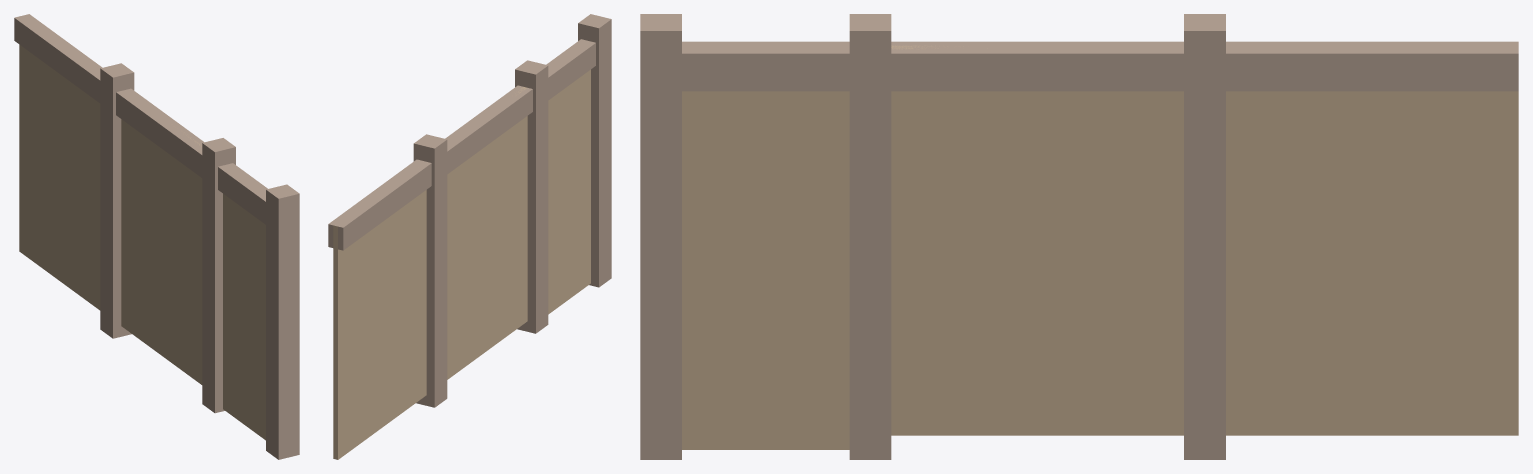
Rendered from Fence.fbx.
The picture shows the model from 3 angles, left to right: view 1: azimuth 30°, elevation 25°; view 2: azimuth 150°, elevation 25°; view 3: azimuth 270°, elevation 25°; orthographic projection. The views are drawn at different scales.
Parts seen in each view (by area): view 1: FenceSheet, FenceSheet.001, FencePole.004, FencePole.001, FencePole, FencePole.003, FencePole.002; view 2: FenceSheet, FenceSheet.001, FencePole.001, FencePole, FencePole.003, FencePole.004, FencePole.002; view 3: FenceSheet, FenceSheet.001, FencePole.001, FencePole.003, FencePole, FencePole.004, FencePole.002.
Boxes of the visible parts, x1=… form: FenceSheet: x1=19, y1=44, x2=202, y2=384; FenceSheet.001: x1=223, y1=194, x2=265, y2=440; FencePole.004: x1=266, y1=184, x2=299, y2=459; FencePole.001: x1=14, y1=14, x2=203, y2=177; FencePole: x1=100, y1=63, x2=134, y2=338; FencePole.003: x1=202, y1=138, x2=235, y2=413; FencePole.002: x1=218, y1=163, x2=267, y2=224; FenceSheet: x1=333, y1=87, x2=527, y2=459; FenceSheet.001: x1=548, y1=69, x2=590, y2=314; FencePole.001: x1=328, y1=85, x2=532, y2=250; FencePole: x1=413, y1=134, x2=447, y2=407; FencePole.003: x1=515, y1=60, x2=548, y2=333; FencePole.004: x1=578, y1=14, x2=611, y2=287; FencePole.002: x1=546, y1=39, x2=595, y2=100; FenceSheet: x1=891, y1=45, x2=1518, y2=435; FenceSheet.001: x1=682, y1=91, x2=849, y2=449; FencePole.001: x1=891, y1=41, x2=1518, y2=91; FencePole.003: x1=849, y1=14, x2=891, y2=459; FencePole: x1=1184, y1=14, x2=1225, y2=459; FencePole.004: x1=640, y1=14, x2=681, y2=459; FencePole.002: x1=682, y1=41, x2=849, y2=91.
Size of the model in its own units: 471 by 21.53 by 254.
